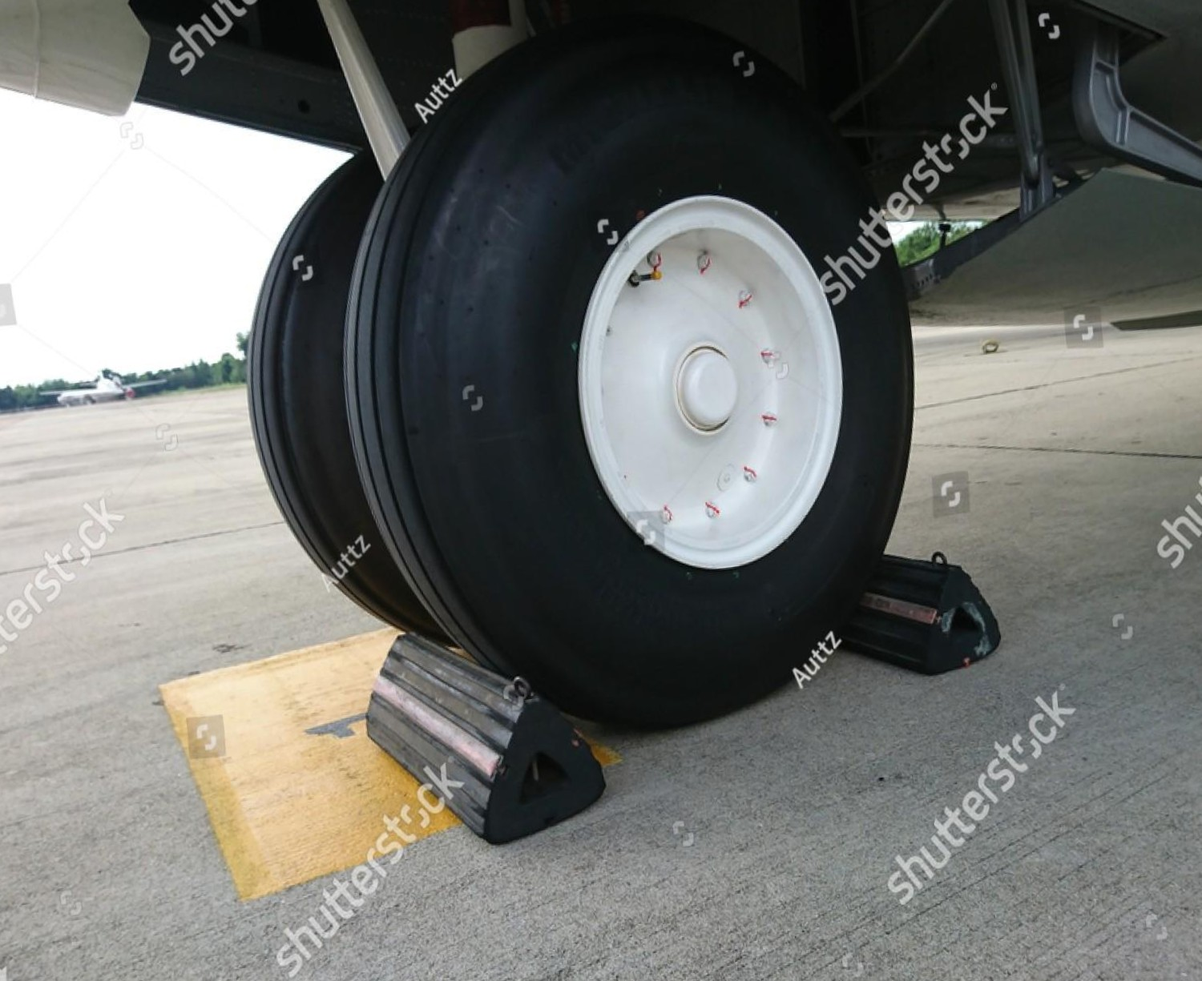chock: (354, 608, 610, 859), (815, 525, 1007, 691)
wheel: (329, 0, 927, 760), (214, 142, 462, 659)
